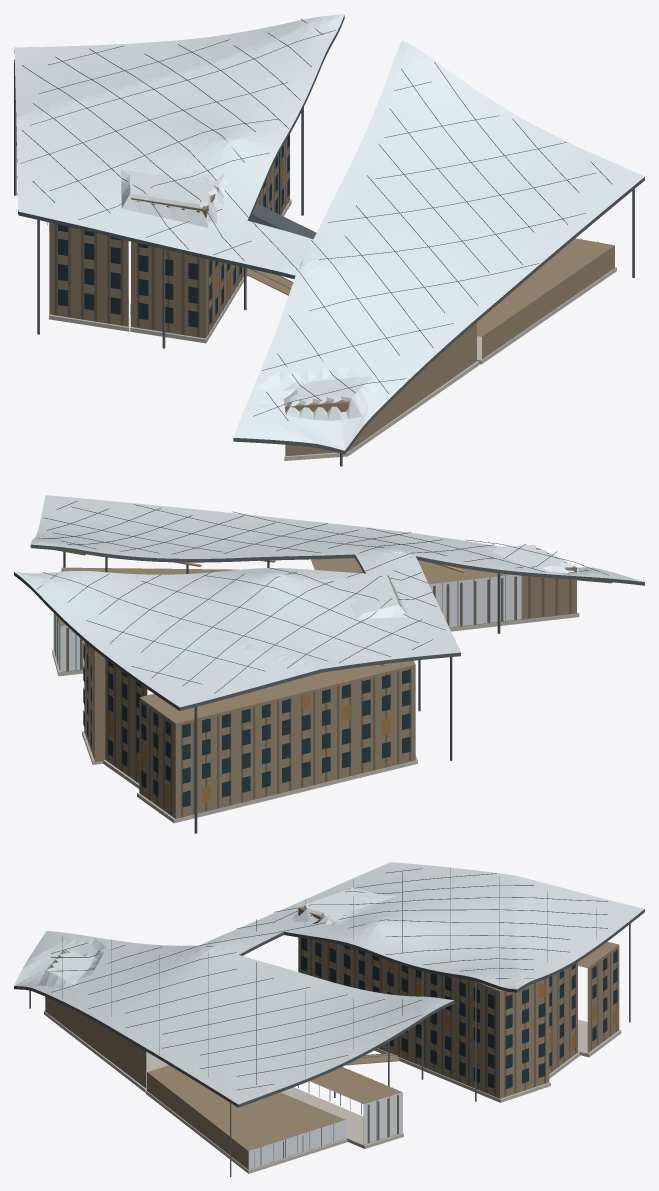
The model's file is astrup-fearnley-museum-near.glb.
3 views of the same model, one above another, from view 1: azimuth 30°, elevation 25°; view 2: azimuth 150°, elevation 25°; view 3: azimuth 270°, elevation 25° (orthographic). The views are drawn at different scales.
Parts seen in each view (by area): view 1: astrup-fearnley-museum-0-glass, astrup-fearnley-museum-0-timber, astrup-fearnley-museum-0-steel, astrup-fearnley-museum-0-windowGlass, astrup-fearnley-museum-0-board, astrup-fearnley-museum-0-concrete; view 2: astrup-fearnley-museum-0-glass, astrup-fearnley-museum-0-timber, astrup-fearnley-museum-0-steel, astrup-fearnley-museum-0-board, astrup-fearnley-museum-0-windowGlass, astrup-fearnley-museum-0-concrete, astrup-fearnley-museum-0-glow; view 3: astrup-fearnley-museum-0-glass, astrup-fearnley-museum-0-timber, astrup-fearnley-museum-0-steel, astrup-fearnley-museum-0-windowGlass, astrup-fearnley-museum-0-board, astrup-fearnley-museum-0-concrete, astrup-fearnley-museum-0-glow.
Boxes of the visible parts, x1,y1,x2,y2 form: astrup-fearnley-museum-0-glass: [14, 14, 644, 450]; astrup-fearnley-museum-0-timber: [49, 139, 614, 456]; astrup-fearnley-museum-0-steel: [14, 15, 644, 466]; astrup-fearnley-museum-0-windowGlass: [47, 134, 289, 327]; astrup-fearnley-museum-0-board: [54, 142, 289, 336]; astrup-fearnley-museum-0-concrete: [49, 199, 616, 460]; astrup-fearnley-museum-0-glass: [14, 495, 643, 707]; astrup-fearnley-museum-0-timber: [57, 548, 576, 818]; astrup-fearnley-museum-0-steel: [14, 501, 644, 833]; astrup-fearnley-museum-0-board: [54, 570, 571, 817]; astrup-fearnley-museum-0-windowGlass: [83, 643, 410, 807]; astrup-fearnley-museum-0-concrete: [52, 612, 579, 823]; astrup-fearnley-museum-0-glow: [90, 647, 390, 805]; astrup-fearnley-museum-0-glass: [14, 862, 644, 1169]; astrup-fearnley-museum-0-timber: [45, 906, 619, 1169]; astrup-fearnley-museum-0-steel: [14, 867, 644, 1176]; astrup-fearnley-museum-0-windowGlass: [301, 922, 617, 1088]; astrup-fearnley-museum-0-board: [254, 911, 617, 1167]; astrup-fearnley-museum-0-concrete: [44, 1010, 621, 1173]; astrup-fearnley-museum-0-glow: [387, 960, 617, 1062].
Size of the model in its own units: 84.56 by 25.12 by 103.
